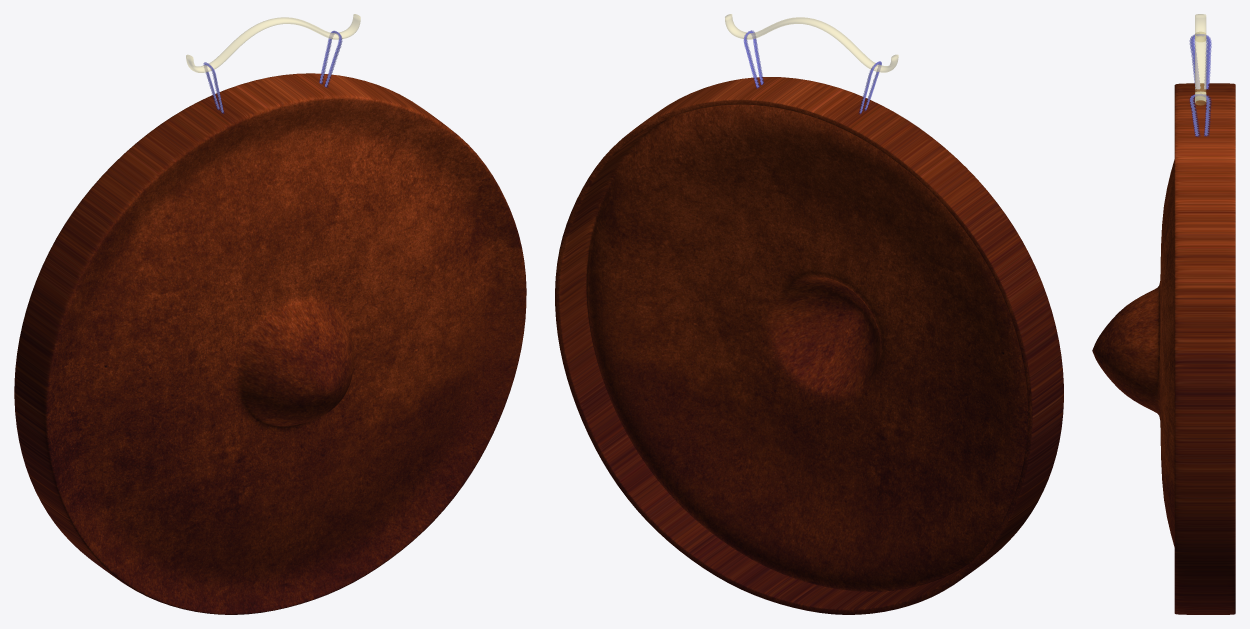
Rendered from cong_chieng.gltf.
The picture shows the model from 3 angles, left to right: view 1: azimuth 30°, elevation 25°; view 2: azimuth 150°, elevation 25°; view 3: azimuth 270°, elevation 25°; orthographic projection. The views are drawn at different scales.
Parts seen in each view (by area): view 1: Laos_Bronze_Gong_4, Line002, Spring003; view 2: Laos_Bronze_Gong_4, Line002, Spring003; view 3: Laos_Bronze_Gong_4, Spring003, Line002.
Boxes of the visible parts, x1,y1,x2,y2 form: Laos_Bronze_Gong_4: (14, 73, 526, 614); Line002: (186, 14, 360, 72); Spring003: (203, 31, 342, 113); Laos_Bronze_Gong_4: (555, 77, 1063, 614); Line002: (725, 14, 898, 72); Spring003: (744, 30, 881, 113); Laos_Bronze_Gong_4: (1092, 83, 1235, 614); Spring003: (1189, 34, 1211, 136); Line002: (1195, 14, 1206, 105).
Size of the model in its own units: 6.96 by 7.99 by 1.89.
Materials: 3 (1 with a texture image).
